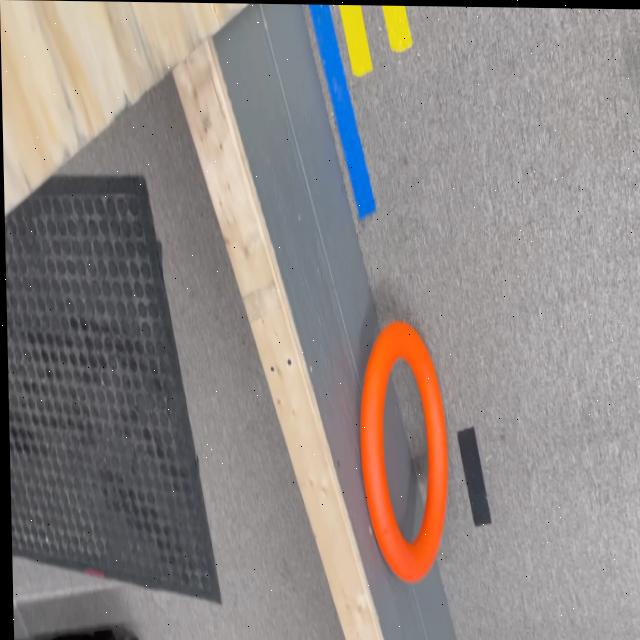note: (355, 320, 451, 580)
